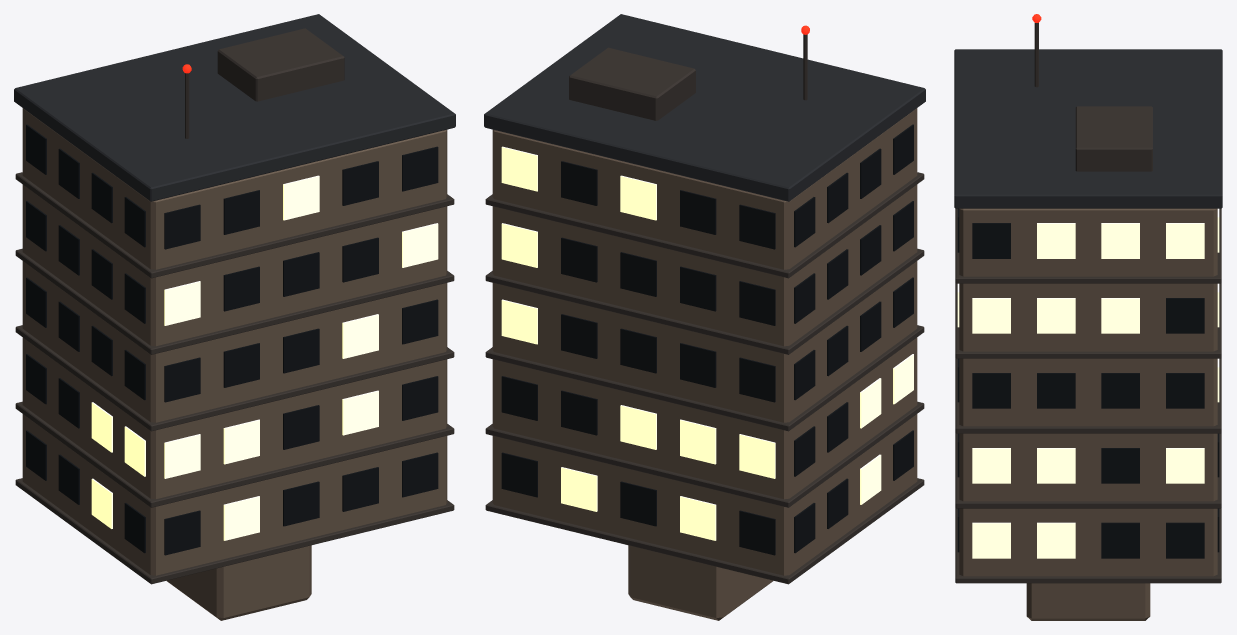
File: bld_block.glb
3 renders of one model, left to right at view 1: azimuth 30°, elevation 25°; view 2: azimuth 150°, elevation 25°; view 3: azimuth 270°, elevation 25°, orthographic. The views are drawn at different scales.
Parts seen in each view (by area): view 1: intact, chunk_201, chunk_101, chunk_001, chunk_100, chunk_000; view 2: intact, chunk_201, chunk_001, chunk_000, chunk_011; view 3: intact, chunk_001, chunk_000, chunk_011, chunk_101.
Part boxes in pixels (x1=…): intact: x1=14, y1=14, x2=455, y2=584; chunk_201: x1=216, y1=548, x2=308, y2=619; chunk_101: x1=222, y1=545, x2=311, y2=620; chunk_001: x1=170, y1=545, x2=311, y2=619; chunk_100: x1=222, y1=545, x2=311, y2=620; chunk_000: x1=166, y1=567, x2=306, y2=620; intact: x1=484, y1=14, x2=925, y2=584; chunk_201: x1=632, y1=548, x2=717, y2=619; chunk_001: x1=628, y1=545, x2=773, y2=620; chunk_000: x1=628, y1=546, x2=772, y2=620; chunk_011: x1=628, y1=545, x2=732, y2=619; intact: x1=954, y1=14, x2=1222, y2=583; chunk_001: x1=1026, y1=583, x2=1149, y2=620; chunk_000: x1=1029, y1=584, x2=1148, y2=620; chunk_011: x1=1027, y1=583, x2=1128, y2=620; chunk_101: x1=1026, y1=583, x2=1150, y2=620.
Size of the model in its own units: 13.4 by 23.52 by 10.4.
